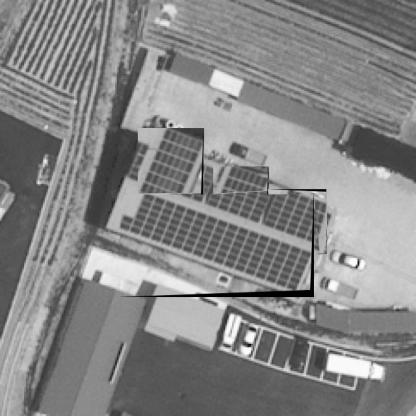solar-pv-panel: (120, 194, 312, 292), (138, 128, 203, 217), (213, 166, 268, 231), (273, 190, 326, 254)
